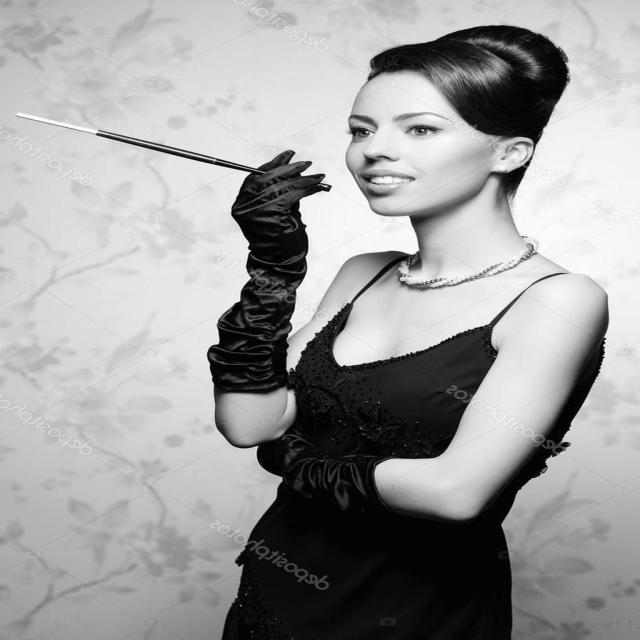smoking: (3, 62, 548, 257)
